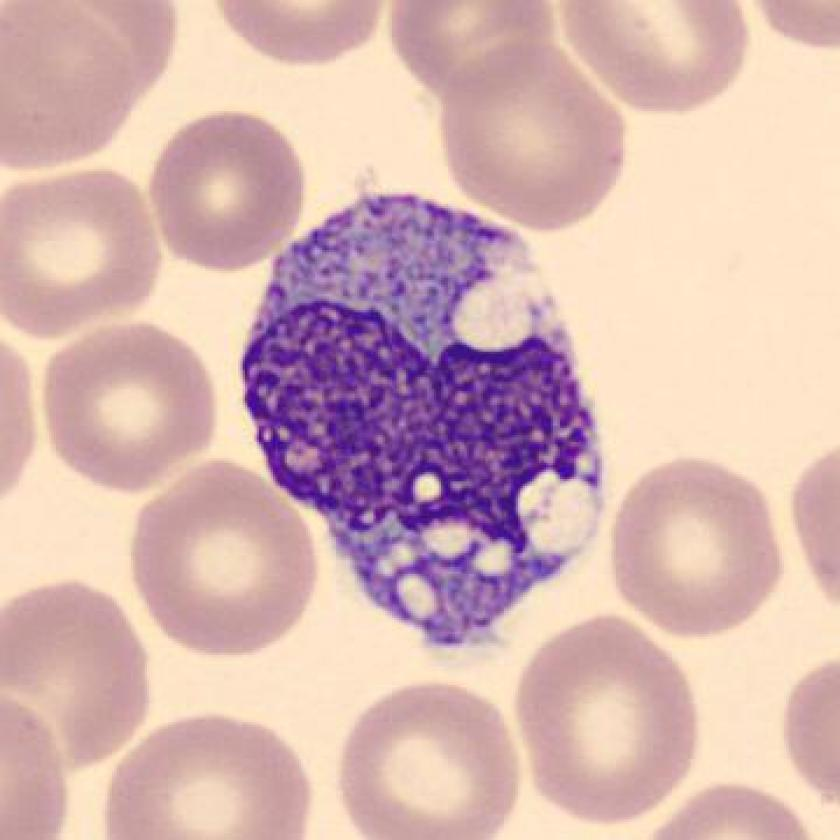monocyte: (230, 177, 631, 663)
